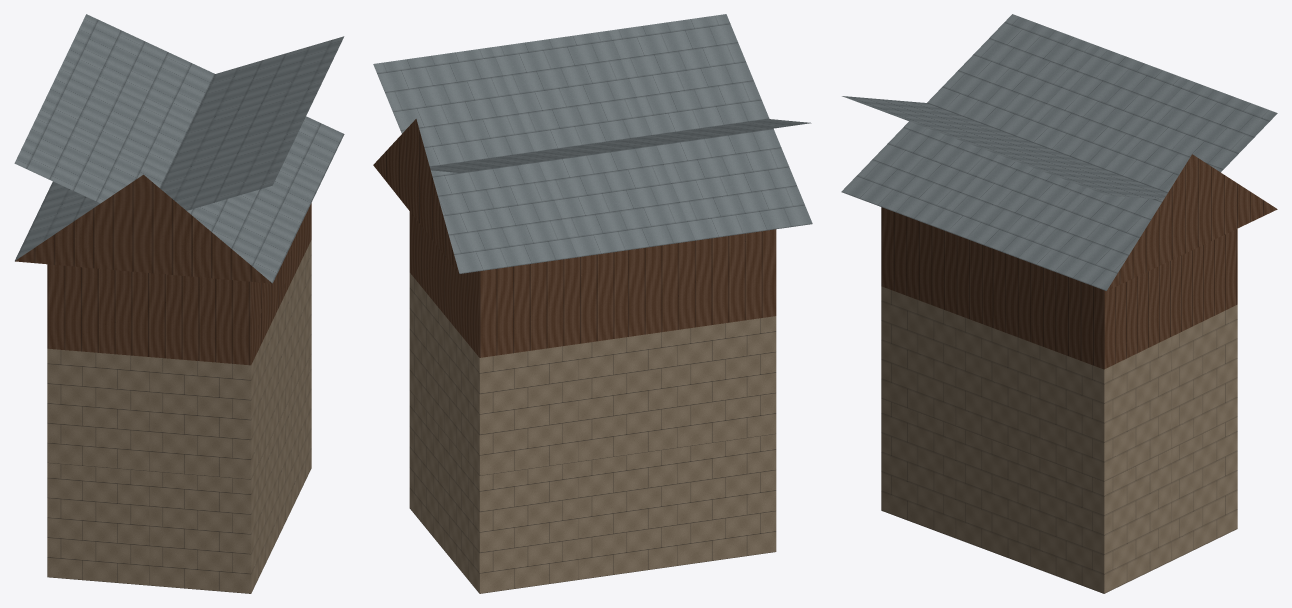
File: bld_c15_46_470.gltf
The picture shows the model from 3 angles, left to right: view 1: azimuth 30°, elevation 25°; view 2: azimuth 150°, elevation 25°; view 3: azimuth 270°, elevation 25°; orthographic projection. The views are drawn at different scales.
Visible parts, largest first — view 1: bld_c15_46_470; view 2: bld_c15_46_470; view 3: bld_c15_46_470.
Boxes of the visible parts, box(x1,y1,x2,y2) form: bld_c15_46_470: box(14, 14, 344, 593); bld_c15_46_470: box(373, 14, 812, 593); bld_c15_46_470: box(841, 14, 1277, 593).
Bounding box in the file's own units: 7.79 × 8.33 × 7.94.
4 materials, 4 textured.
